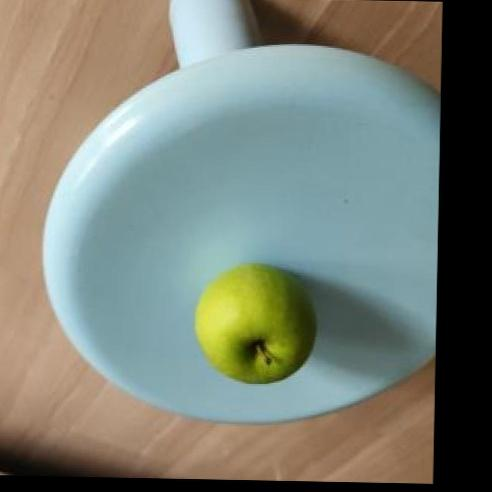green apple: (190, 260, 317, 384)
